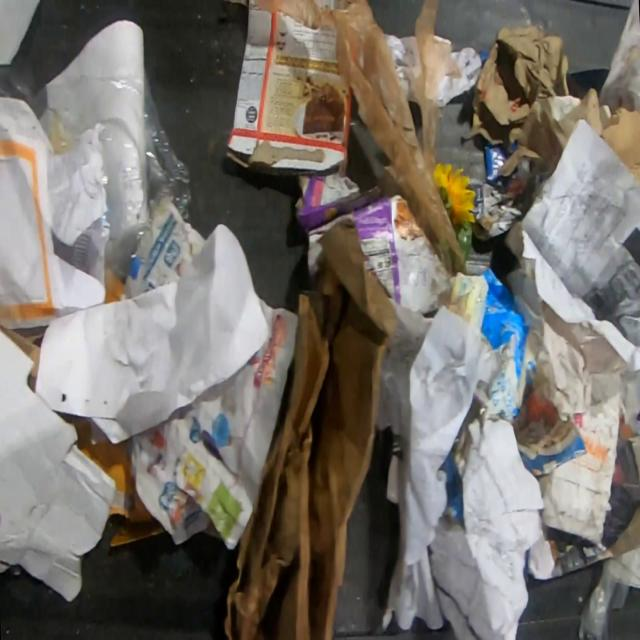cardboard: (222, 222, 399, 640), (0, 319, 116, 602), (471, 23, 640, 183), (294, 174, 452, 317), (225, 0, 350, 177), (438, 266, 542, 422), (540, 368, 620, 543), (312, 0, 347, 8), (474, 385, 487, 406)
soft_plastic: (254, 0, 466, 272), (24, 73, 192, 292), (0, 51, 34, 99)
